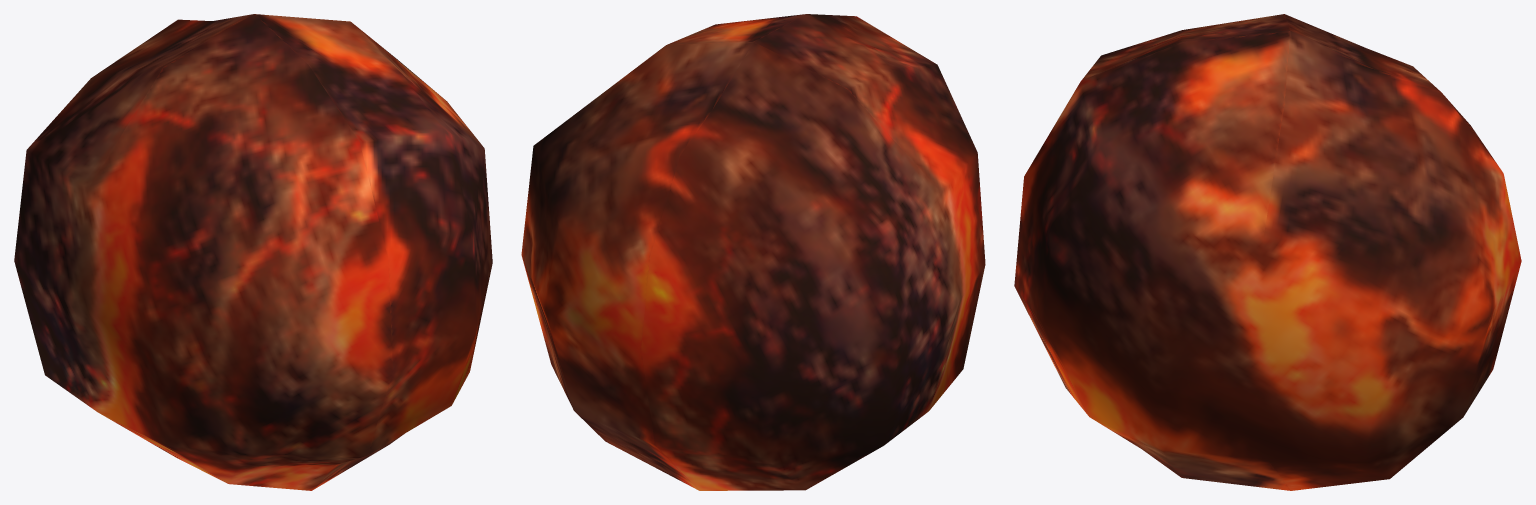
File: effect_headusOBJexport.FBX
3 views of the same model, side by side, from view 1: azimuth 30°, elevation 25°; view 2: azimuth 150°, elevation 25°; view 3: azimuth 270°, elevation 25° (orthographic). The views are drawn at different scales.
Parts seen in each view (by area): view 1: effect_ball01; view 2: effect_ball01; view 3: effect_ball01.
Boxes of the visible parts, x1,y1,x2,y2 form: effect_ball01: [14, 14, 492, 490]; effect_ball01: [521, 14, 985, 490]; effect_ball01: [1014, 14, 1521, 490].
Bounding box in the file's own units: 89.83 × 99.15 × 102.
Materials: 1 (1 with a texture image).
